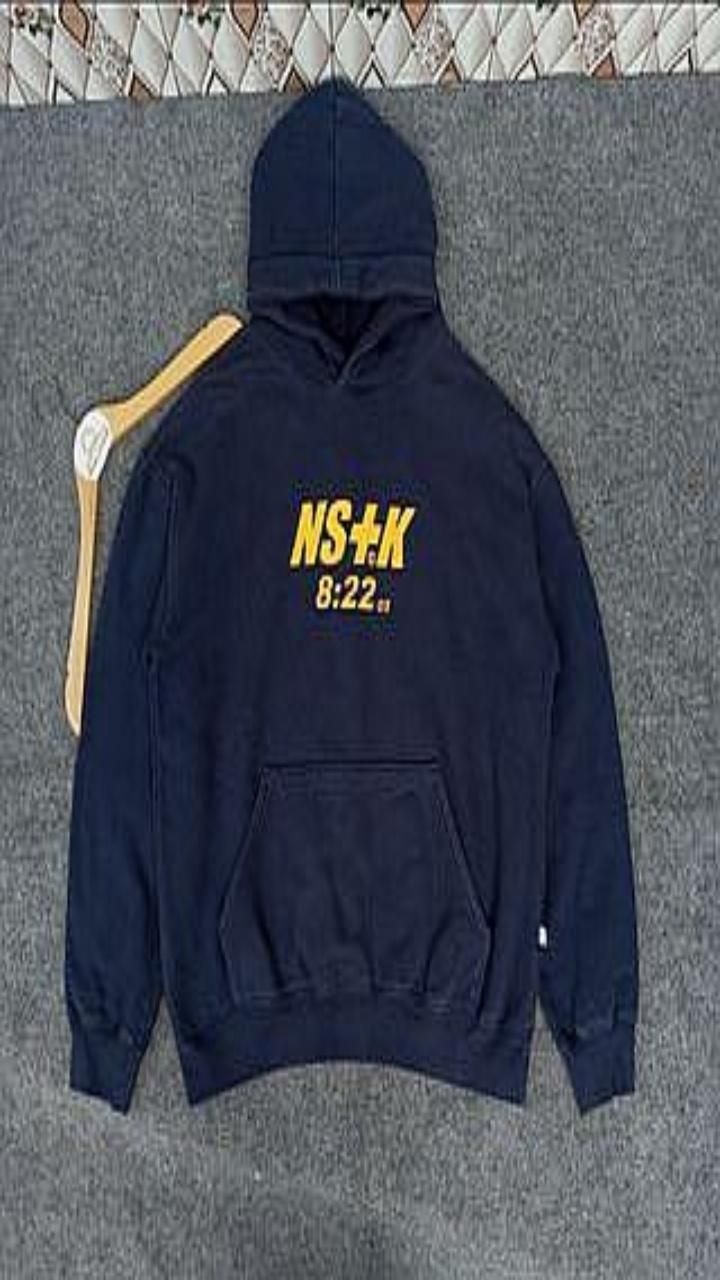Hoodie: (65, 79, 637, 1110)
